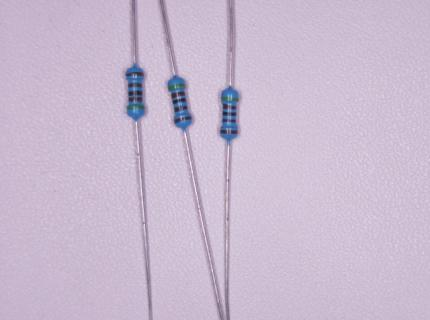Black band: (172, 97, 187, 104), (128, 90, 143, 95), (222, 111, 237, 116)
Brown band: (173, 116, 192, 124), (171, 91, 186, 99), (174, 105, 188, 113), (220, 129, 238, 135), (222, 104, 236, 110), (126, 72, 145, 76), (128, 97, 143, 102), (128, 83, 143, 88), (222, 118, 236, 123)
Green band: (168, 82, 186, 90), (221, 95, 239, 101), (127, 105, 145, 109)
